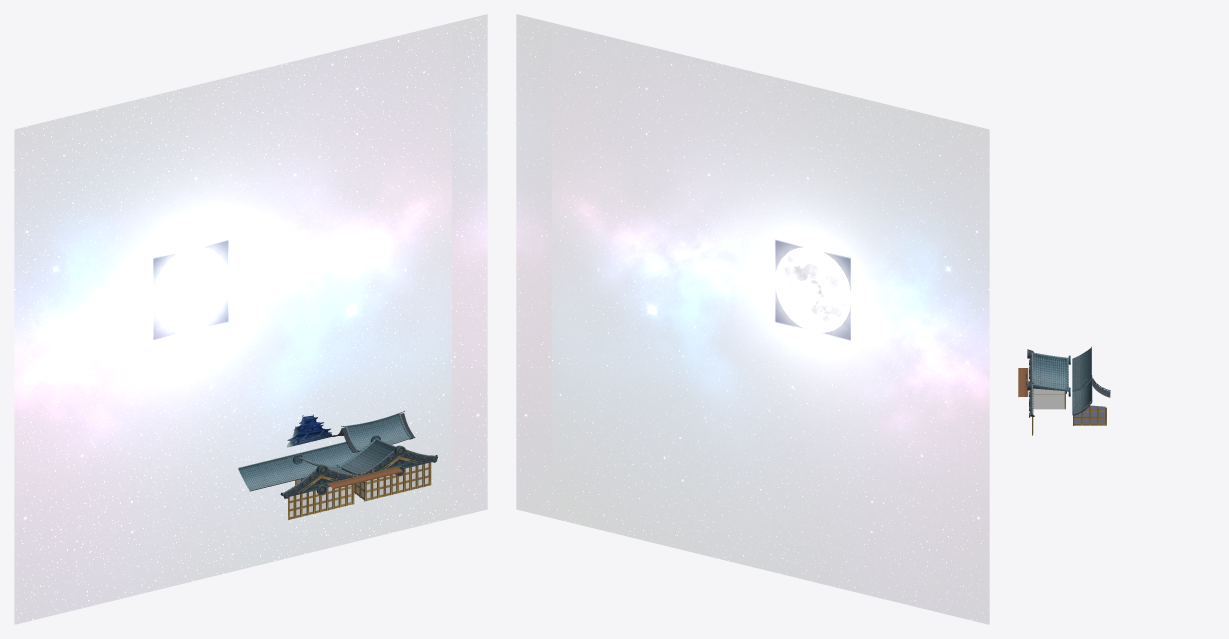
File: SuzakuCastleNight.glb
3 renders of one model, left to right at view 1: azimuth 30°, elevation 25°; view 2: azimuth 150°, elevation 25°; view 3: azimuth 270°, elevation 25°, orthographic. The views are drawn at different scales.
Parts seen in each view (by area): view 1: Plane, 5_roof2_0.1_16_16, 5_front roof4_0.1_16_16, 5_front roof3_0.1_16_16, 5_roof3_0.1_16_16, 5_BG06-Suzaku-Castle-Roof-01b_0.1_16_16, 5_front roof1_0.1_16_16, 5_front roof2_0.1_16_16, 5_-Castle Night_0.1_16_16; view 2: Plane; view 3: 5_BG06-Suzaku-Castle-Roof-01b_0.1_16_16, 5_roof2_0.1_16_16, 5_front roof3_0.1_16_16, 5_roof3_0.1_16_16, 5_front roof1_0.1_16_16, 5_front roof4_0.1_16_16.001, 5_front roof3_0.1_16_16.001, 5_floor_0.1_16_16.
Part boxes in pixels (bbox=[...]): Plane: bbox=[14, 14, 487, 624]; 5_roof2_0.1_16_16: bbox=[238, 441, 360, 491]; 5_front roof4_0.1_16_16: bbox=[288, 462, 431, 519]; 5_front roof3_0.1_16_16: bbox=[289, 463, 428, 516]; 5_roof3_0.1_16_16: bbox=[341, 410, 412, 452]; 5_BG06-Suzaku-Castle-Roof-01b_0.1_16_16: bbox=[293, 435, 395, 474]; 5_front roof1_0.1_16_16: bbox=[280, 445, 437, 498]; 5_front roof2_0.1_16_16: bbox=[290, 455, 431, 496]; 5_-Castle Night_0.1_16_16: bbox=[287, 414, 331, 447]; Plane: bbox=[516, 14, 989, 624]; 5_BG06-Suzaku-Castle-Roof-01b_0.1_16_16: bbox=[1031, 352, 1070, 396]; 5_roof2_0.1_16_16: bbox=[1072, 346, 1091, 415]; 5_front roof3_0.1_16_16: bbox=[1033, 388, 1064, 409]; 5_roof3_0.1_16_16: bbox=[1072, 375, 1092, 414]; 5_front roof1_0.1_16_16: bbox=[1027, 349, 1066, 417]; 5_front roof4_0.1_16_16.001: bbox=[1073, 406, 1106, 425]; 5_front roof3_0.1_16_16.001: bbox=[1074, 405, 1105, 423]; 5_floor_0.1_16_16: bbox=[1018, 368, 1028, 397].
Size of the model in its own units: 304 by 304 by 130.
Materials: 16 (14 with a texture image).
